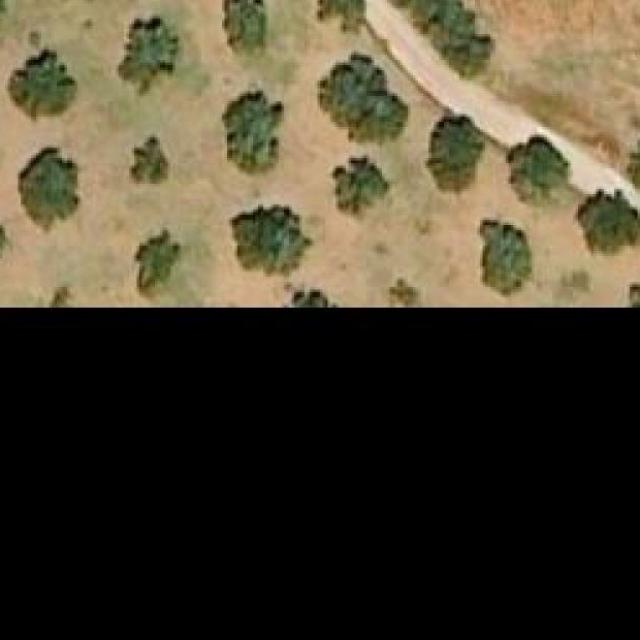Tree: (317, 51, 408, 142), (413, 0, 496, 78), (229, 204, 312, 274), (8, 49, 81, 126), (16, 148, 80, 230), (222, 91, 284, 173), (114, 16, 178, 92), (425, 117, 482, 197), (503, 138, 573, 202), (575, 187, 640, 254), (477, 220, 532, 295), (327, 156, 389, 218), (134, 228, 181, 301), (221, 0, 265, 55), (129, 137, 170, 187), (315, 0, 366, 31), (290, 282, 339, 306), (389, 280, 423, 306), (0, 219, 14, 270), (629, 135, 640, 197), (52, 285, 72, 305), (630, 284, 640, 305)
